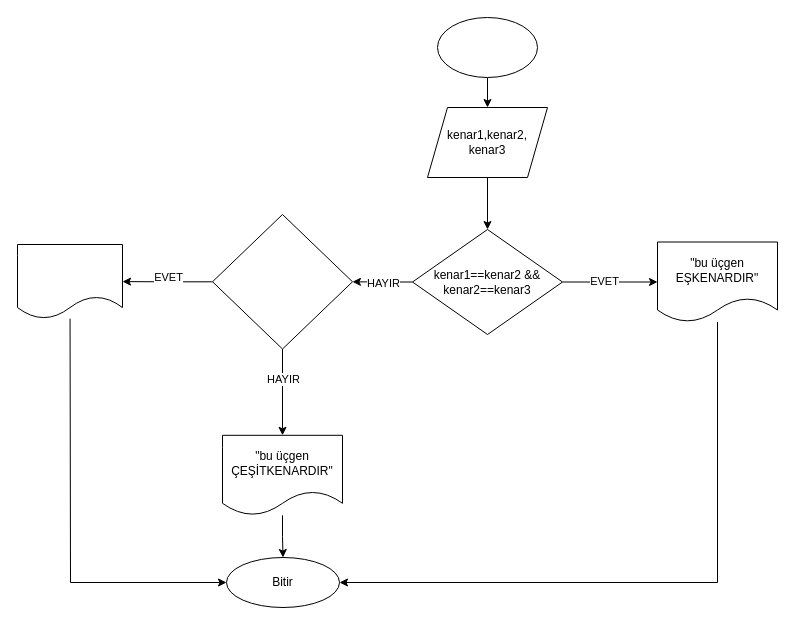
This 795x625 diagram has some shape labels left out. The box of each missing label's shape, as (x1, y1, x2, y2) in pixels:
"bu üçgen İKİZKENARDIR": (16, 244, 122, 319)
Başla: (436, 16, 538, 78)
kenar1==kenar2 || kenar1==kenar3 || kenar2==kenar3: (212, 214, 352, 349)
